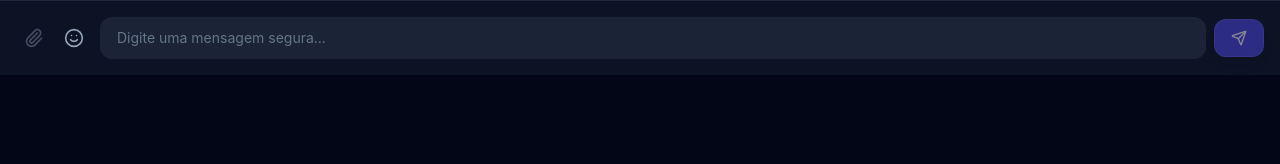
Test: Chat Components & Real-time UI (T-13 / T-14) › MessageComposer › shows offline notice and blocks attachment when recipient is offline in Free plan (T-18 State 1: Disabled/Offline)
Note: Clicking shows the offline notice banner
What coordinates should you click on to do the following:
click the button named "anexar arquivo"
I would click on:
 (34, 38)
Its box is [16,20,52,56].
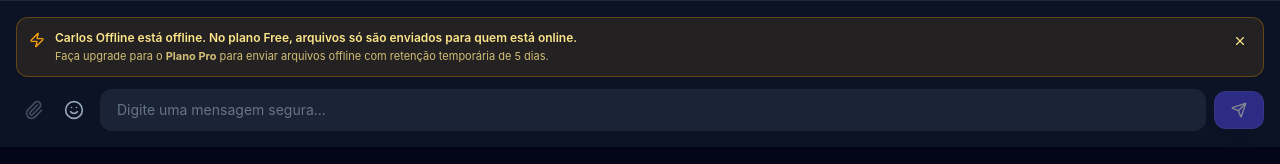
Now the text "Carlos Offline está offline. No plano Free, arquivos só são enviados para quem está online." is shown, box [55,30,577,45]
Now the text "Faça upgrade para o" is shown, box [55,49,166,63]
